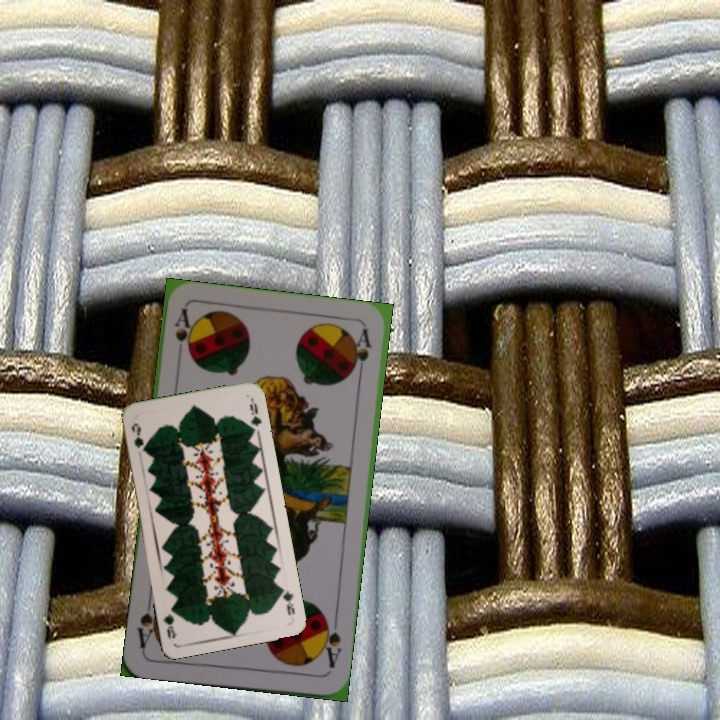G9: (127, 419, 148, 456), (276, 582, 297, 618)
SA: (317, 613, 344, 671), (170, 305, 195, 359)
